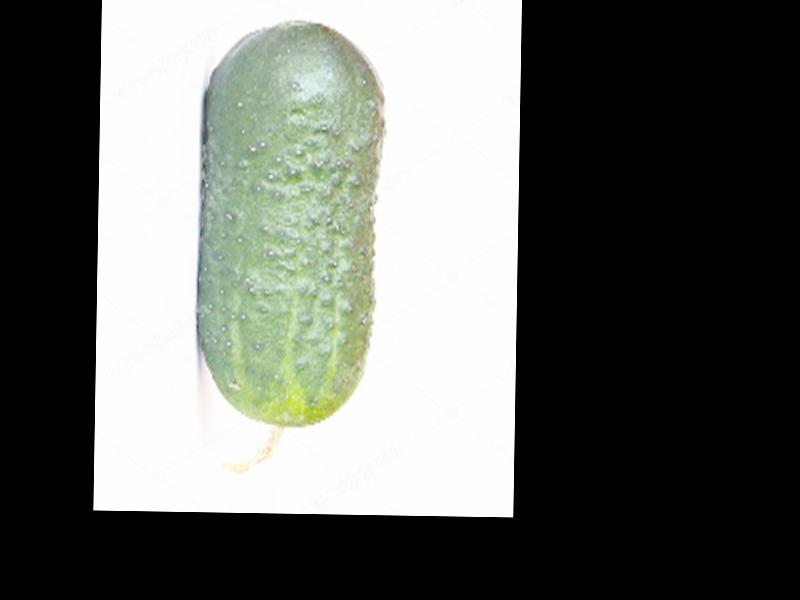Cucumber: (197, 23, 384, 477)
